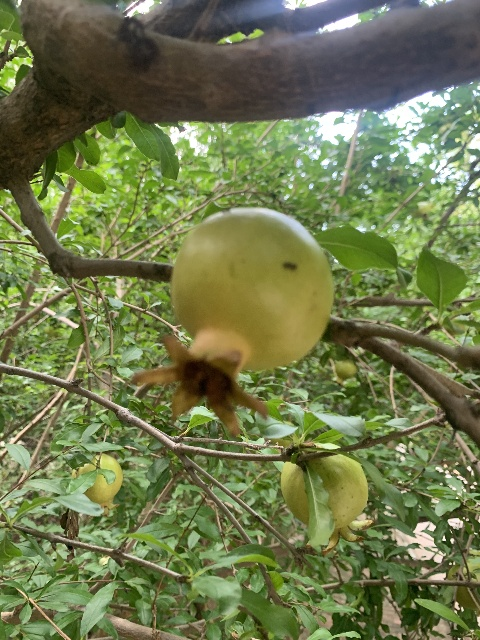mid-growth: (130, 206, 333, 438), (280, 442, 374, 556), (71, 453, 123, 515), (453, 583, 480, 622), (331, 359, 357, 385)
